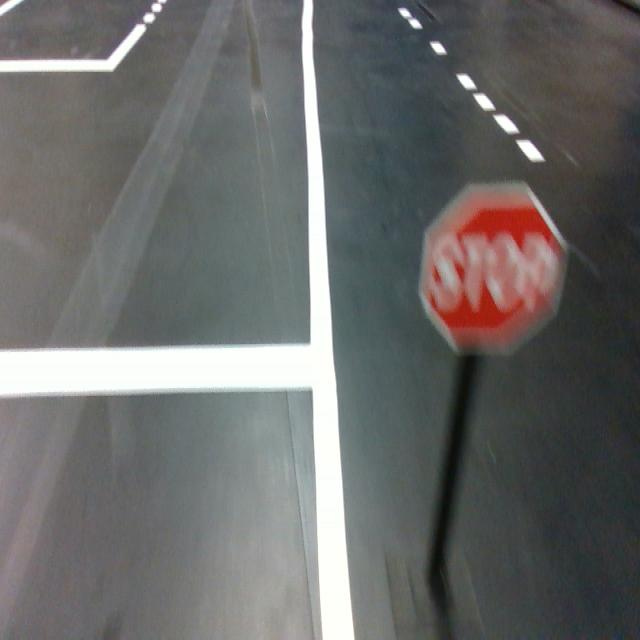stop-sign: (416, 178, 572, 360)
